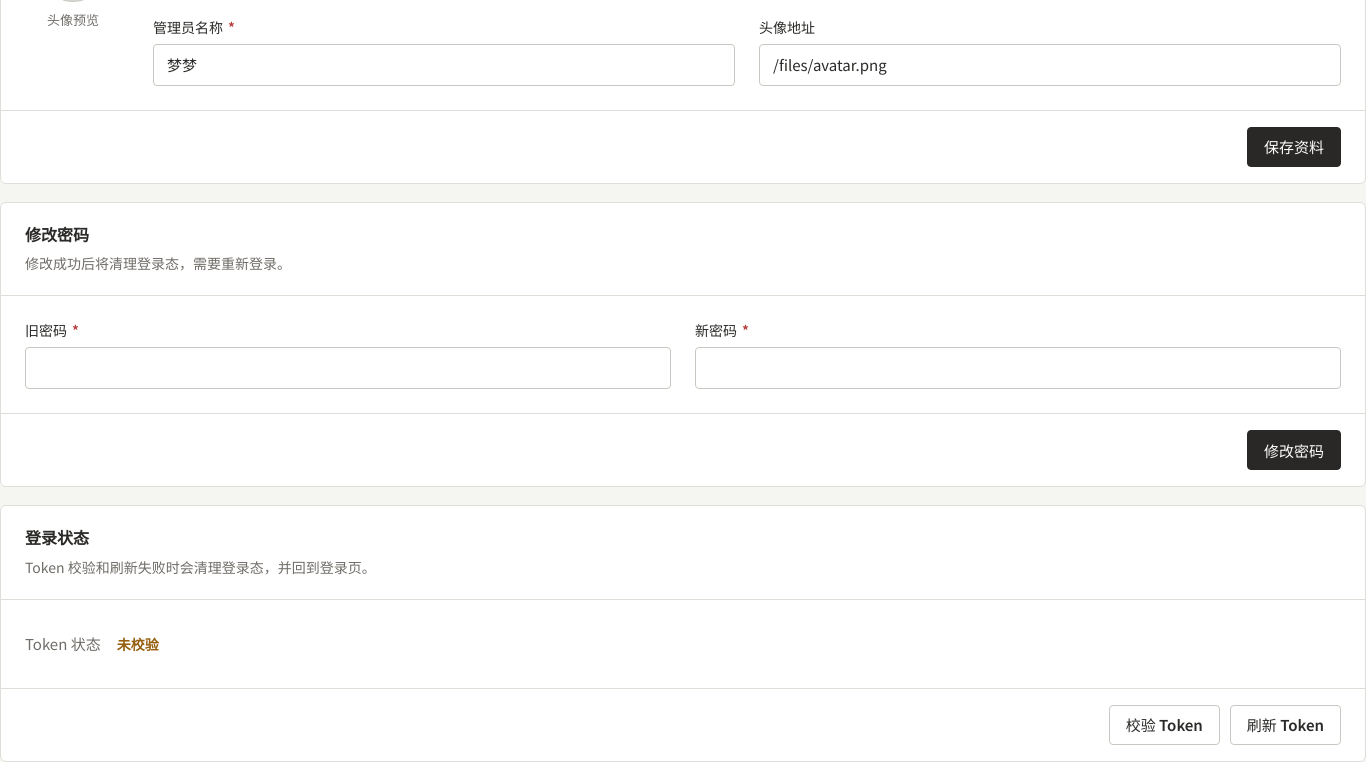
Test: 管理员设置页 › 校验 Token 成功后应显示有效
(page scrolled)
Expected: the field showing "梦梦" is shown, [154,45,734,85]
Click the button "校验 Token": (1164, 725) [1109,705,1220,745]
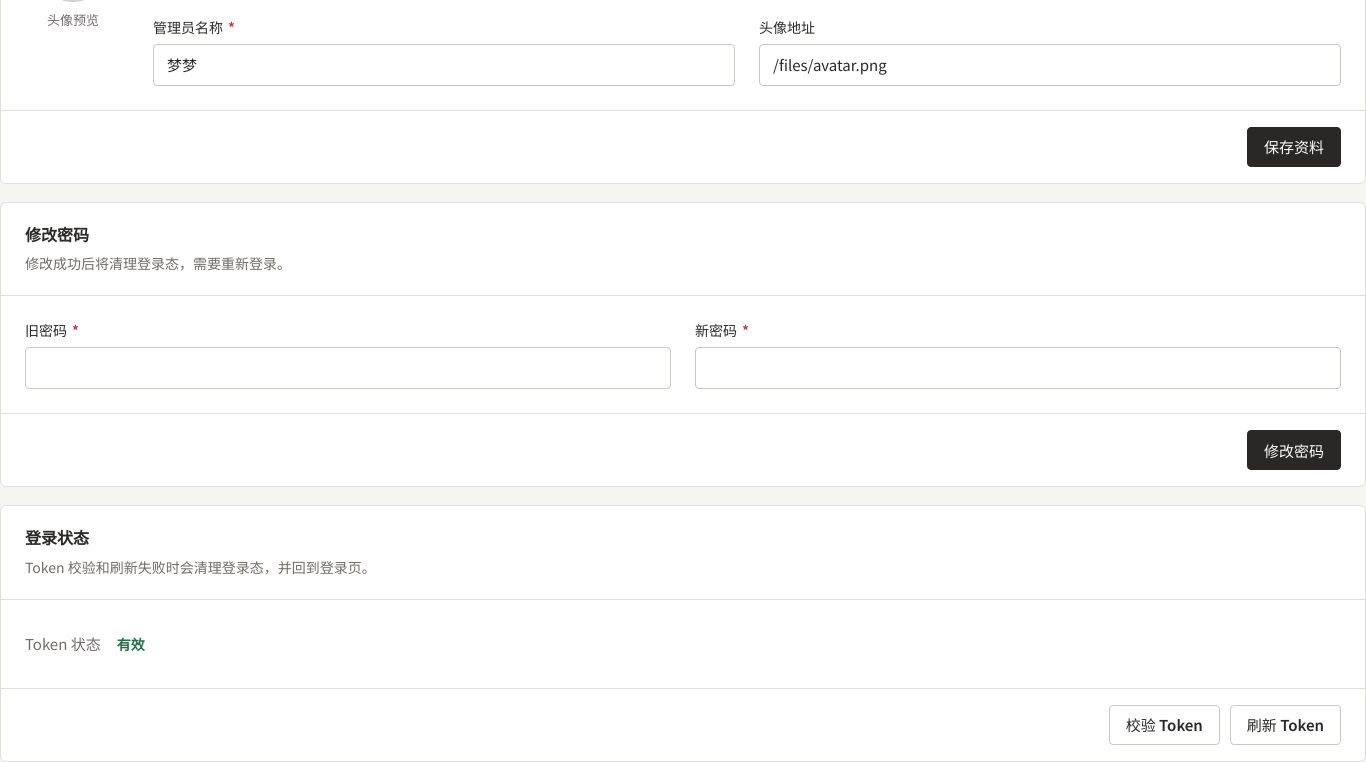
Expected: the text "有效" is shown, [117,634,145,654]
